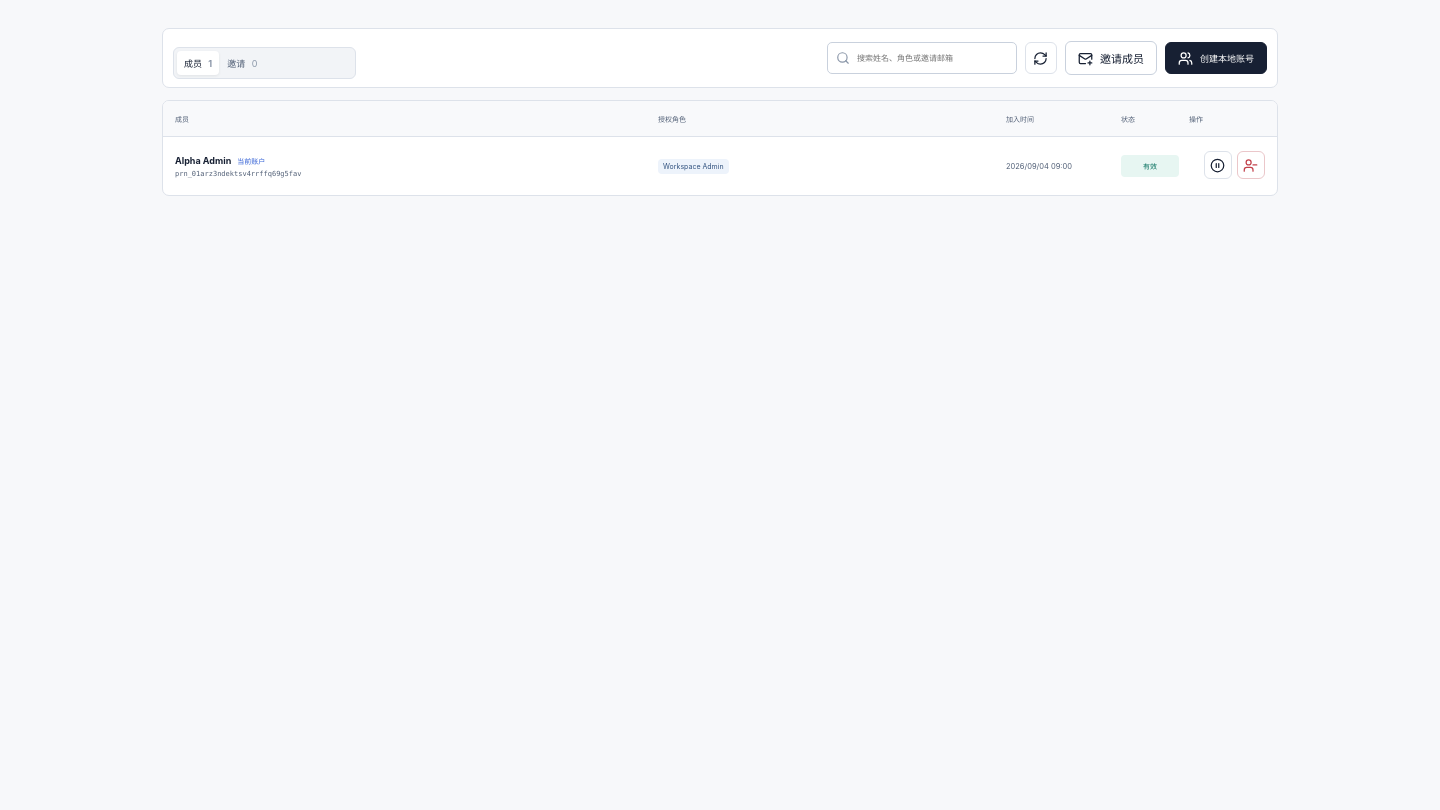
Scenario: real member administration › lists members and creates an invitation with the in-memory CSRF verifier
This screenshot has width=1440, height=810.
Expected: the text "Alpha Admin" is shown, 175,154 -> 231,166
Click the button "邀请成员".
click(1111, 58)  # box 1065,41 -> 1157,75
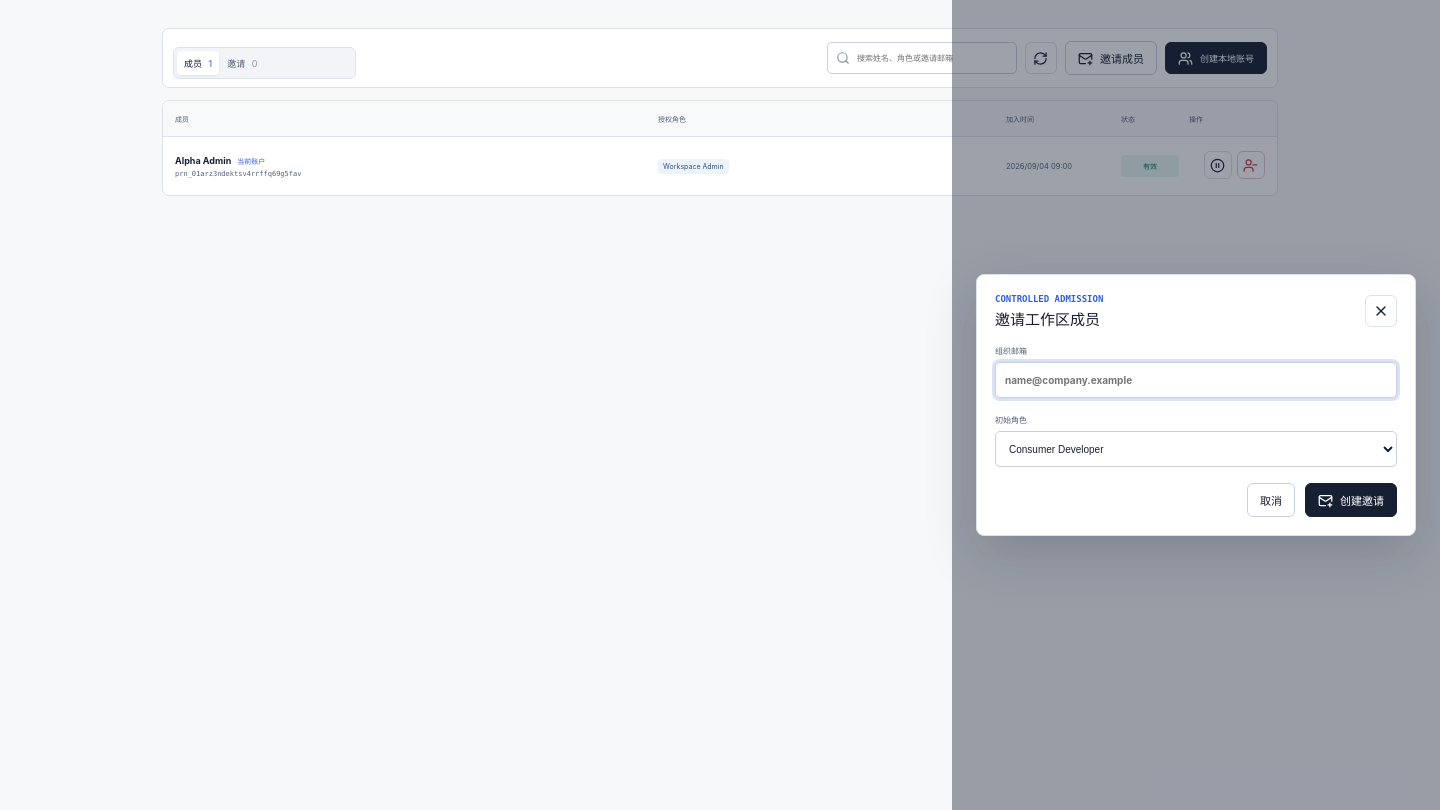
Type "new.user@example.com" into the field labelled "组织邮箱".
click(1196, 380); type("new.user@example.com")  # box 995,362 -> 1397,398
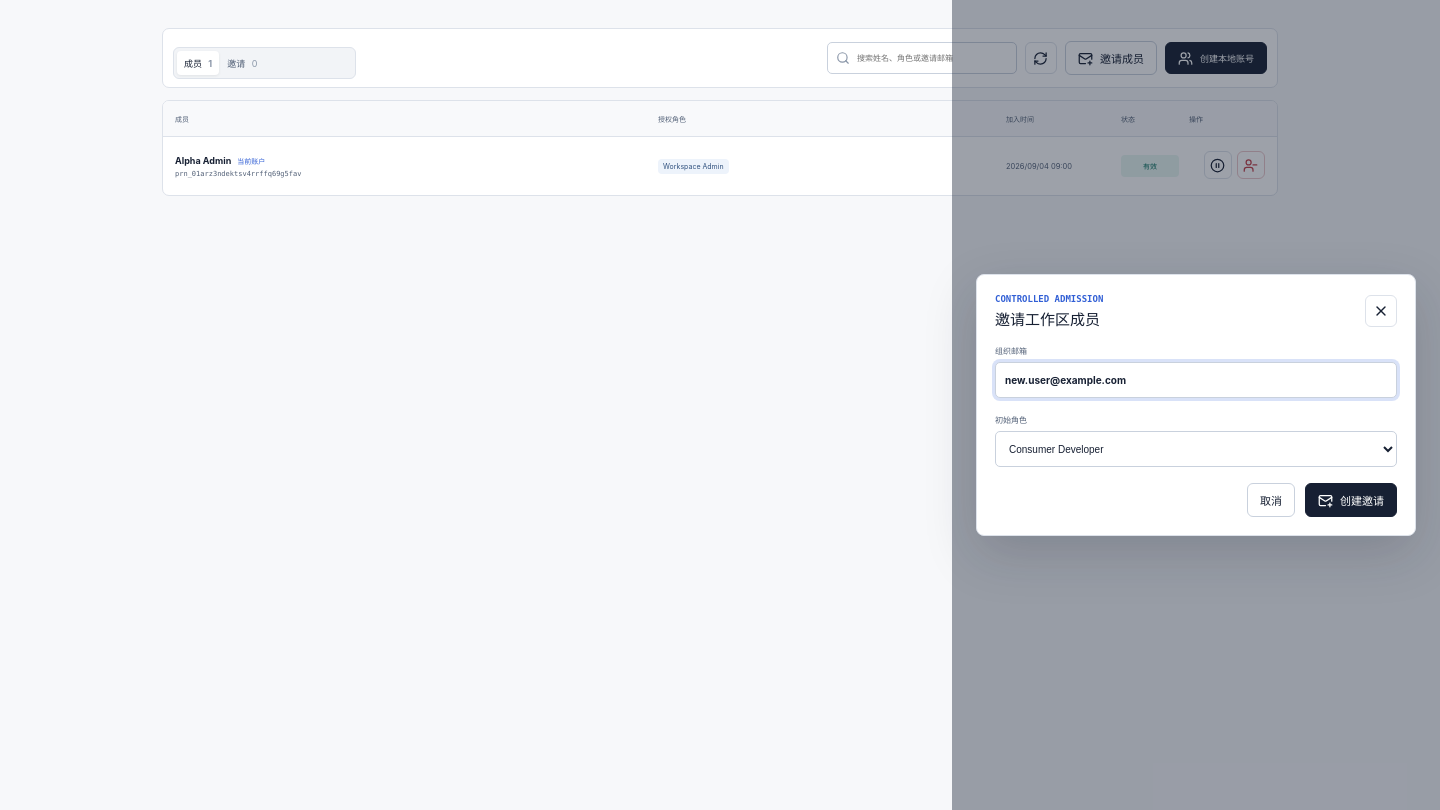
Select "Reviewer" in the dropdown labelled "初始角色" at (1196, 449), box 995,431 -> 1397,467
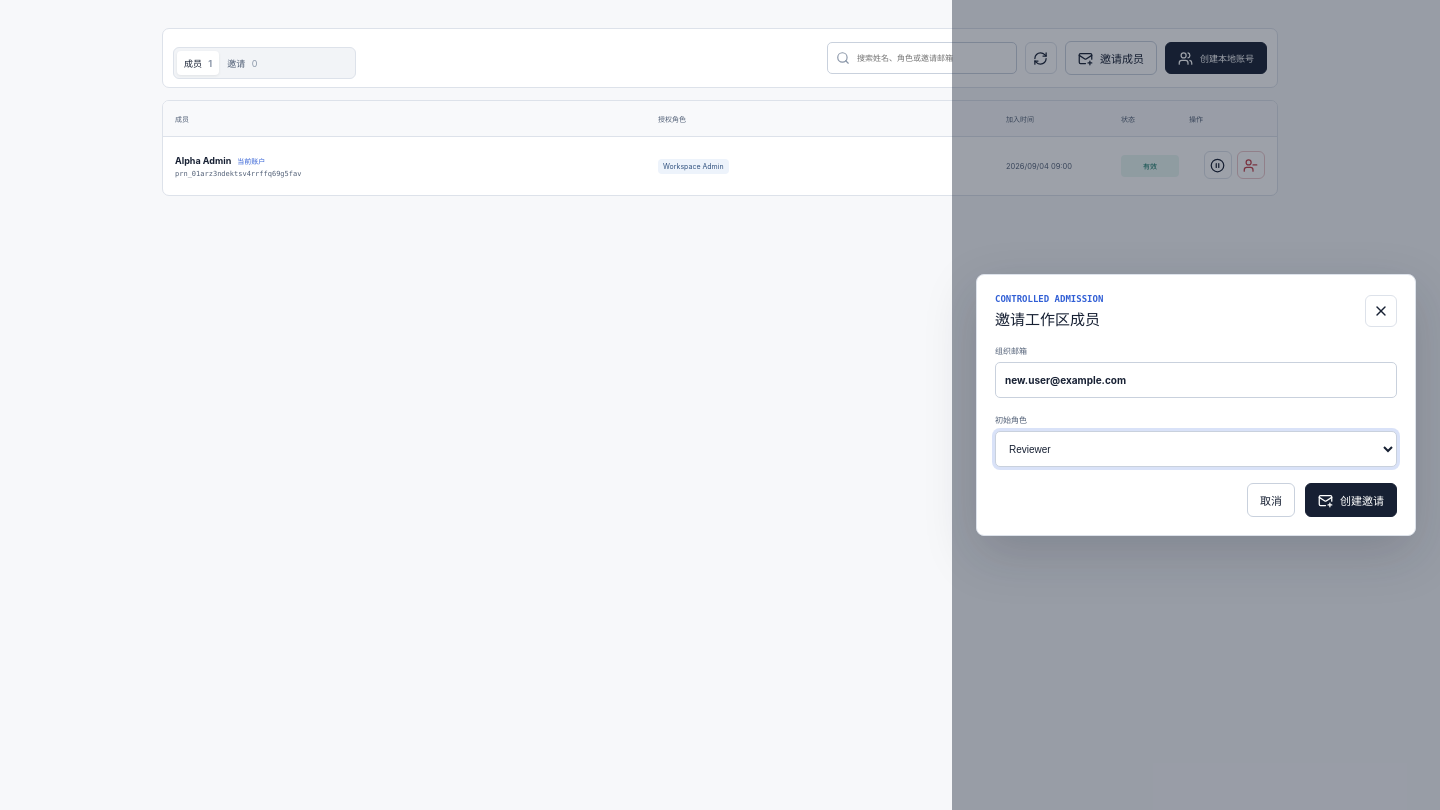
Click the button "创建邀请".
click(1351, 500)  # box 1305,483 -> 1397,517
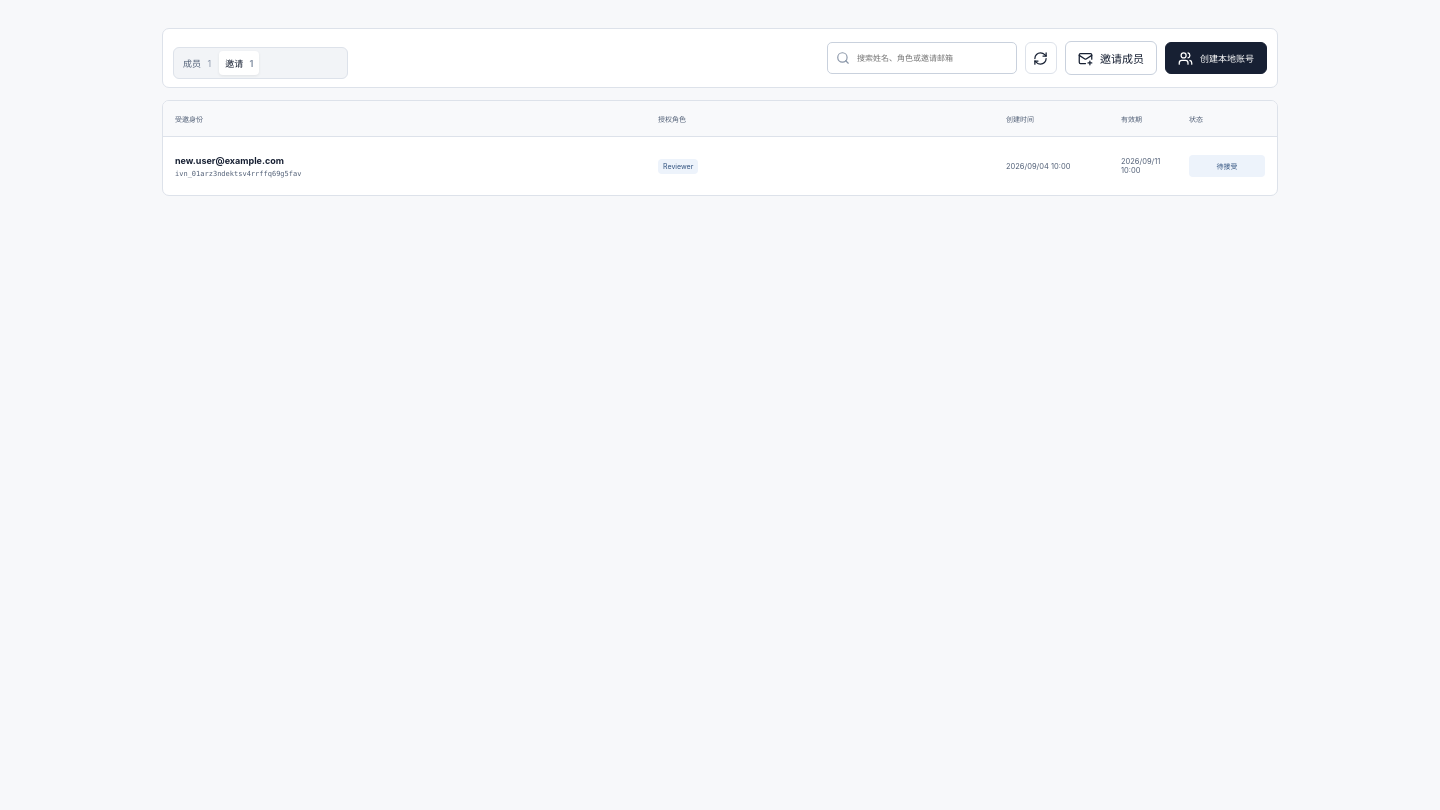
Result: the text "new.user@example.com" is shown at 175,154 -> 284,166
